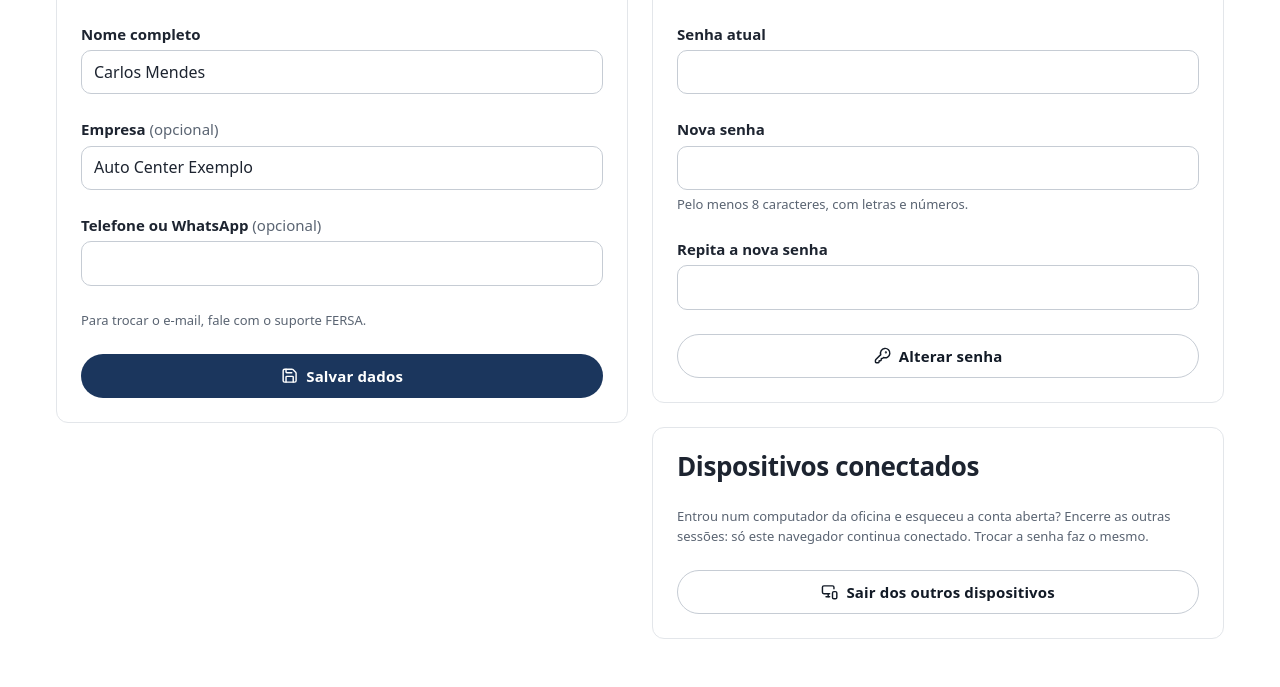
it: Minha conta: segurança da sessão › "Sair dos outros dispositivos" encerra as outras sessões e confirma
This screenshot has width=1280, height=687.
(page scrolled)
Click the button "Sair dos outros dispositivos".
click(938, 592)  # box [677,570,1199,614]
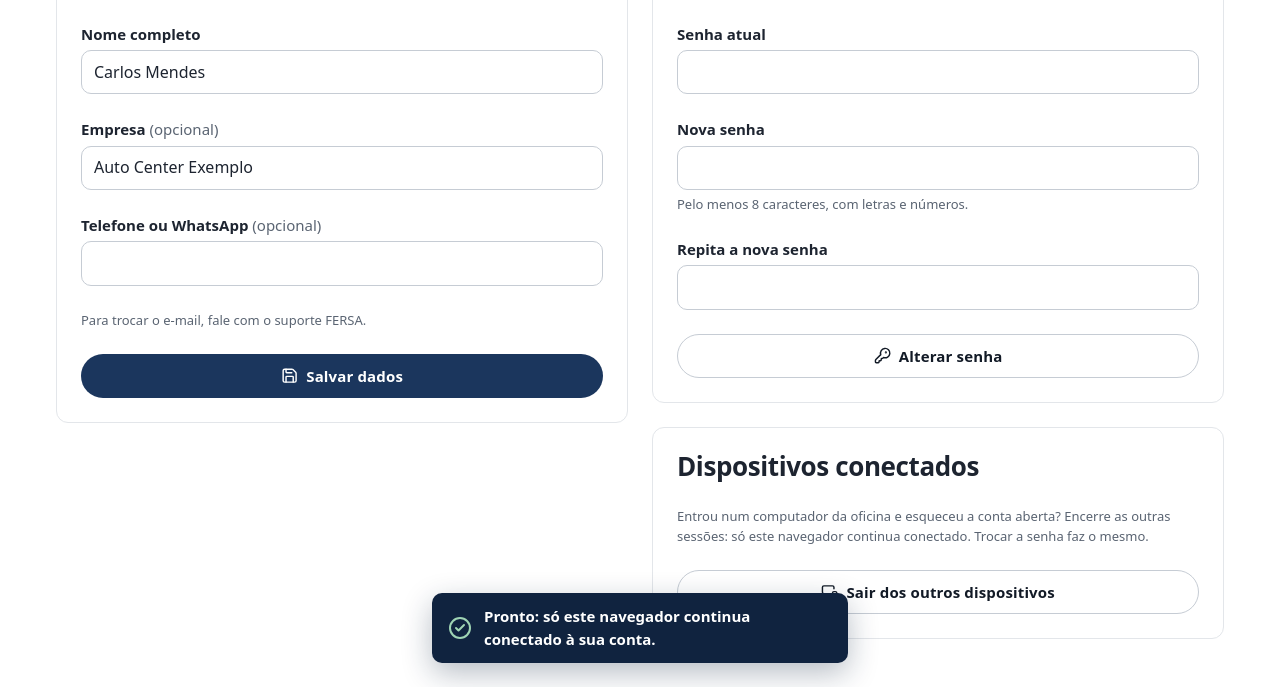
Check: the text "Pronto: só este navegador continua conectado à sua conta." is shown, box [484,606,750,649]
